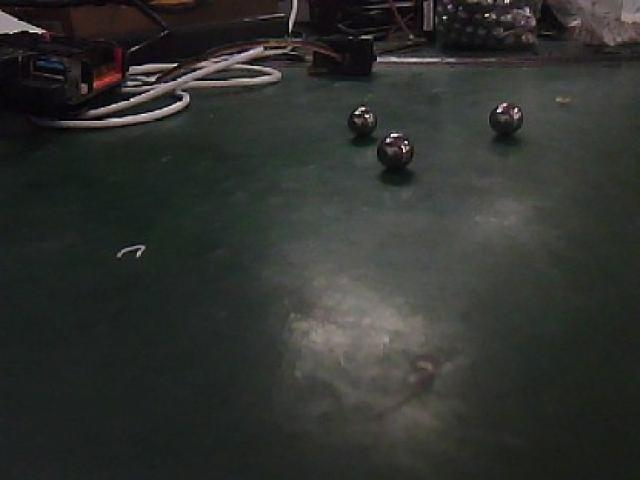steel-ball: (477, 82, 534, 143), (363, 126, 423, 182), (331, 92, 382, 137)
